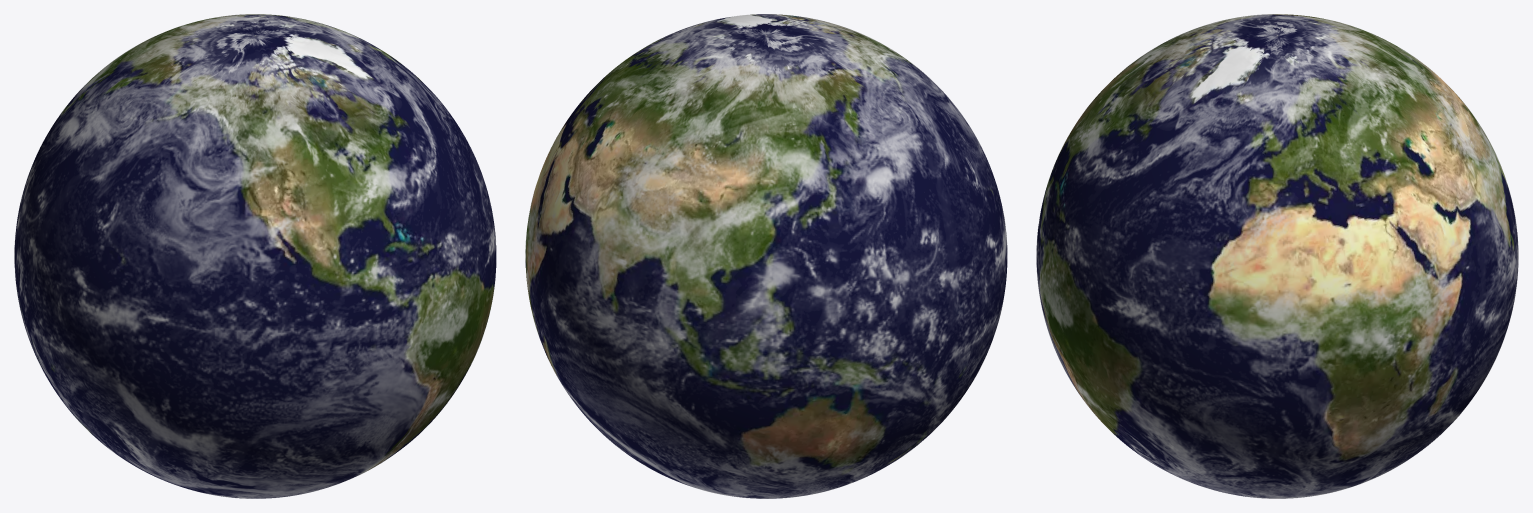
The model's file is earth-transformed.glb.
The picture shows the model from 3 angles, left to right: view 1: azimuth 30°, elevation 25°; view 2: azimuth 150°, elevation 25°; view 3: azimuth 270°, elevation 25°; orthographic projection.
Visible parts, largest first — view 1: Earth, Earth_Clouds; view 2: Earth, Earth_Clouds; view 3: Earth, Earth_Clouds.
Boxes of the visible parts, box(x1,y1,x2,y2) form: Earth: box(14, 14, 496, 498); Earth_Clouds: box(14, 14, 495, 498); Earth: box(525, 14, 1007, 498); Earth_Clouds: box(525, 14, 1007, 498); Earth: box(1036, 14, 1518, 498); Earth_Clouds: box(1036, 14, 1518, 498).
Bounding box in the file's own units: 50.21 × 50.74 × 50.21.
2 materials, 2 textured.
